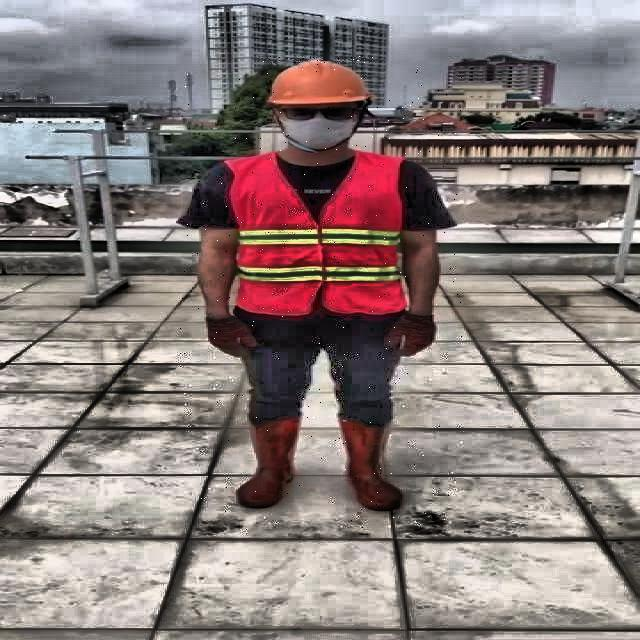safety_helmet: (262, 56, 374, 106)
safety_jacket: (228, 152, 406, 314)
